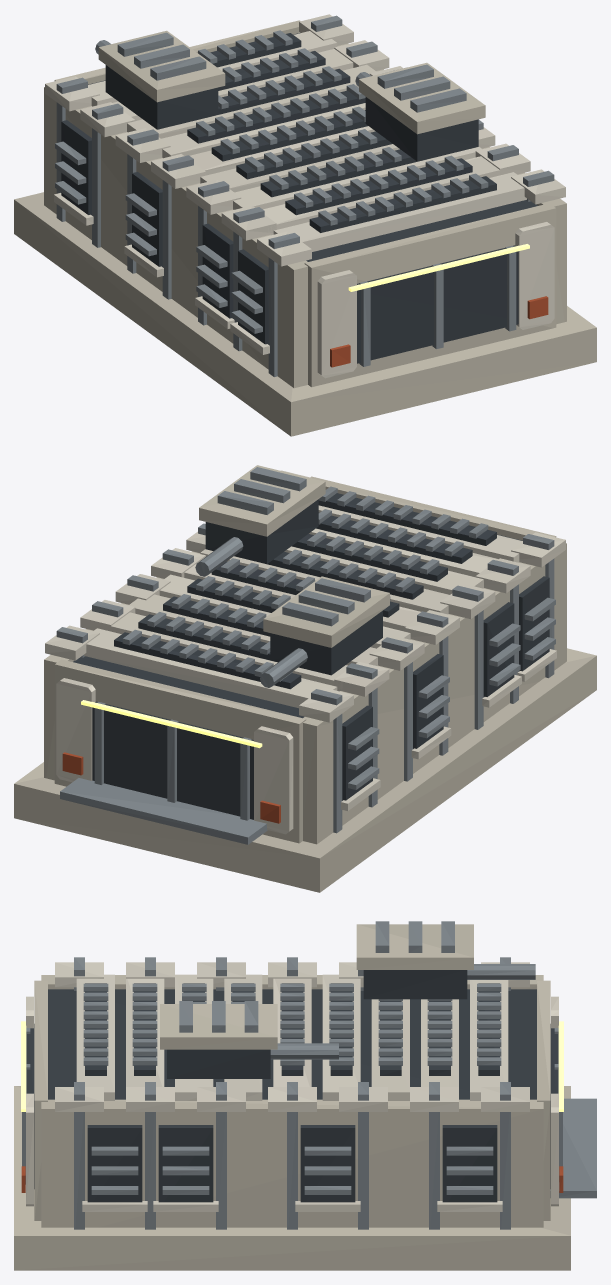
The model's file is receiver-process-hall.glb.
3 renders of one model, top to bottom at view 1: azimuth 30°, elevation 25°; view 2: azimuth 150°, elevation 25°; view 3: azimuth 270°, elevation 25°, orthographic.
Parts seen in each view (by area): view 1: receiver-process-hall__ceramic, receiver-process-hall__graphite, receiver-process-hall__edge, receiver-process-hall__metal, receiver-process-hall__amber, receiver-process-hall__oxide; view 2: receiver-process-hall__ceramic, receiver-process-hall__metal, receiver-process-hall__graphite, receiver-process-hall__edge, receiver-process-hall__amber, receiver-process-hall__oxide; view 3: receiver-process-hall__ceramic, receiver-process-hall__metal, receiver-process-hall__graphite, receiver-process-hall__edge, receiver-process-hall__amber.
Part boxes in pixels (x1,y1,x2,y2): receiver-process-hall__ceramic: [14, 20, 596, 436]; receiver-process-hall__graphite: [61, 33, 537, 363]; receiver-process-hall__edge: [45, 14, 565, 378]; receiver-process-hall__metal: [55, 15, 554, 376]; receiver-process-hall__amber: [348, 244, 529, 291]; receiver-process-hall__oxide: [330, 296, 548, 367]; receiver-process-hall__ceramic: [14, 465, 596, 892]; receiver-process-hall__metal: [56, 467, 555, 844]; receiver-process-hall__graphite: [73, 493, 549, 819]; receiver-process-hall__edge: [45, 470, 565, 834]; receiver-process-hall__amber: [81, 700, 262, 748]; receiver-process-hall__oxide: [62, 752, 280, 823]; receiver-process-hall__ceramic: [14, 924, 570, 1270]; receiver-process-hall__metal: [22, 921, 596, 1229]; receiver-process-hall__graphite: [27, 970, 557, 1202]; receiver-process-hall__edge: [26, 962, 558, 1211]; receiver-process-hall__amber: [21, 1021, 563, 1111].
Bounding box in the file's own units: 130 × 89.5 × 214.
